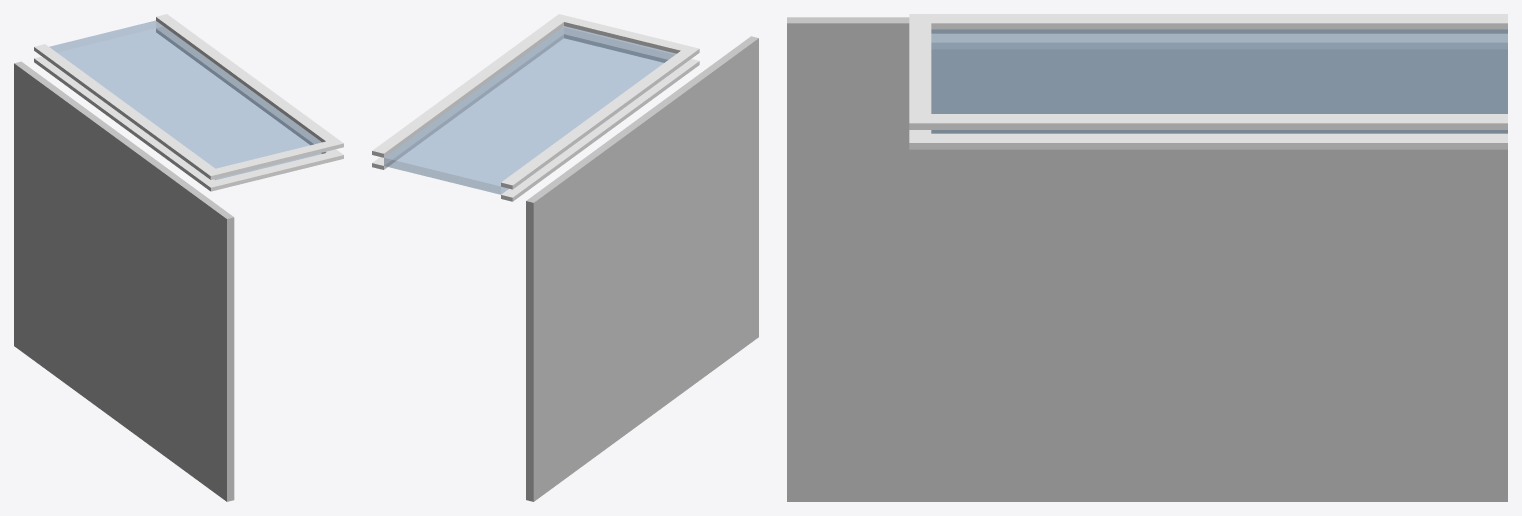
The picture shows the model from 3 angles, left to right: view 1: azimuth 30°, elevation 25°; view 2: azimuth 150°, elevation 25°; view 3: azimuth 270°, elevation 25°; orthographic projection. The views are drawn at different scales.
Visible parts, largest first — view 1: 0_1_3_0_3_0_3_0_3; view 2: 0_1_3_0_3_0_3_0_3; view 3: 0_1_3_0_3_0_3_0_3.
Part boxes in pixels (bbox=[...]): 0_1_3_0_3_0_3_0_3: bbox=[14, 14, 343, 501]; 0_1_3_0_3_0_3_0_3: bbox=[372, 14, 758, 501]; 0_1_3_0_3_0_3_0_3: bbox=[787, 14, 1507, 501].
Size of the model in its own units: 1.04 by 1.91 by 2.5.
